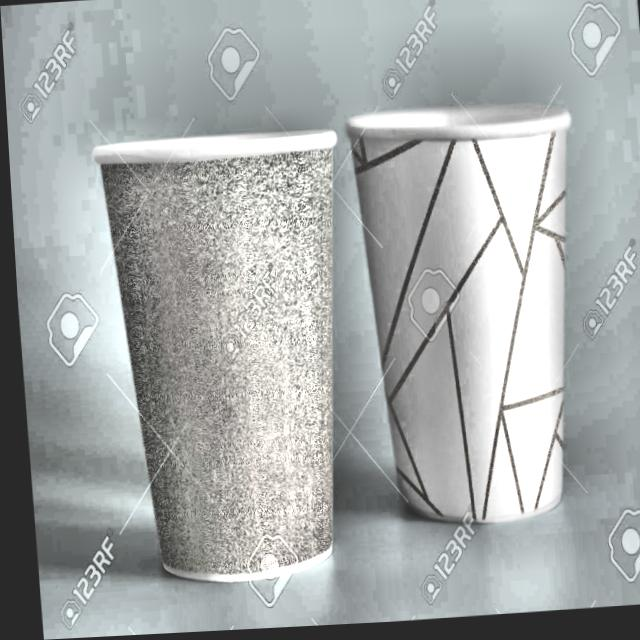Cup: (83, 113, 365, 608), (344, 86, 581, 539)
